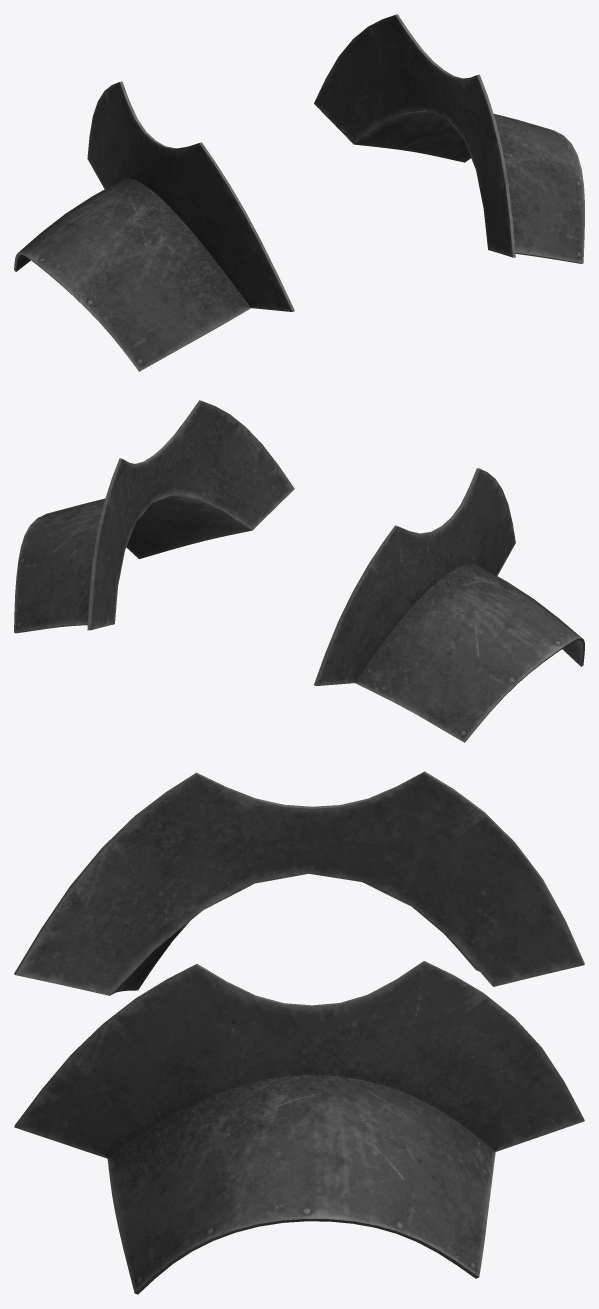
The model's file is sk_uruk_hai_pauldron_med_a1.fbx.
The picture shows the model from 3 angles, top to bottom: view 1: azimuth 30°, elevation 25°; view 2: azimuth 150°, elevation 25°; view 3: azimuth 270°, elevation 25°; orthographic projection. The views are drawn at different scales.
Parts seen in each view (by area): view 1: sk_uruk_hai_pauldron_med_a1; view 2: sk_uruk_hai_pauldron_med_a1; view 3: sk_uruk_hai_pauldron_med_a1.
Boxes of the visible parts, x1,y1,x2,y2 form: sk_uruk_hai_pauldron_med_a1: (14,14,584,371); sk_uruk_hai_pauldron_med_a1: (14,400,584,742); sk_uruk_hai_pauldron_med_a1: (14,771,584,1294).
Size of the model in its own units: 0.5958 by 0.3968 by 0.2113.
1 material, 1 textured.
